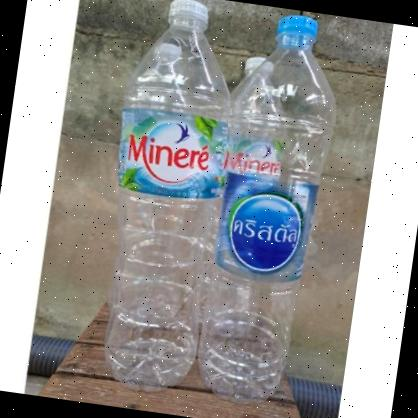bottle: (82, 0, 245, 394), (192, 7, 350, 412)
cap: (274, 11, 320, 47), (161, 0, 211, 31)
label: (214, 168, 320, 288), (112, 99, 229, 205)
